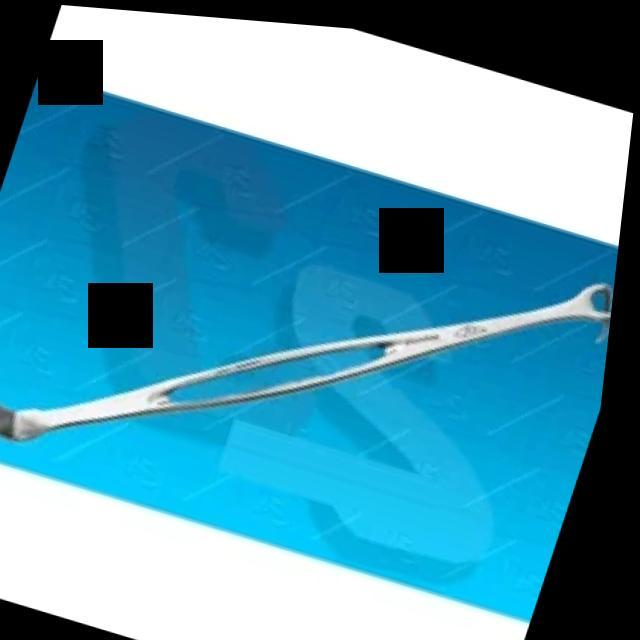Czerny Retractor: (0, 106, 631, 595)
